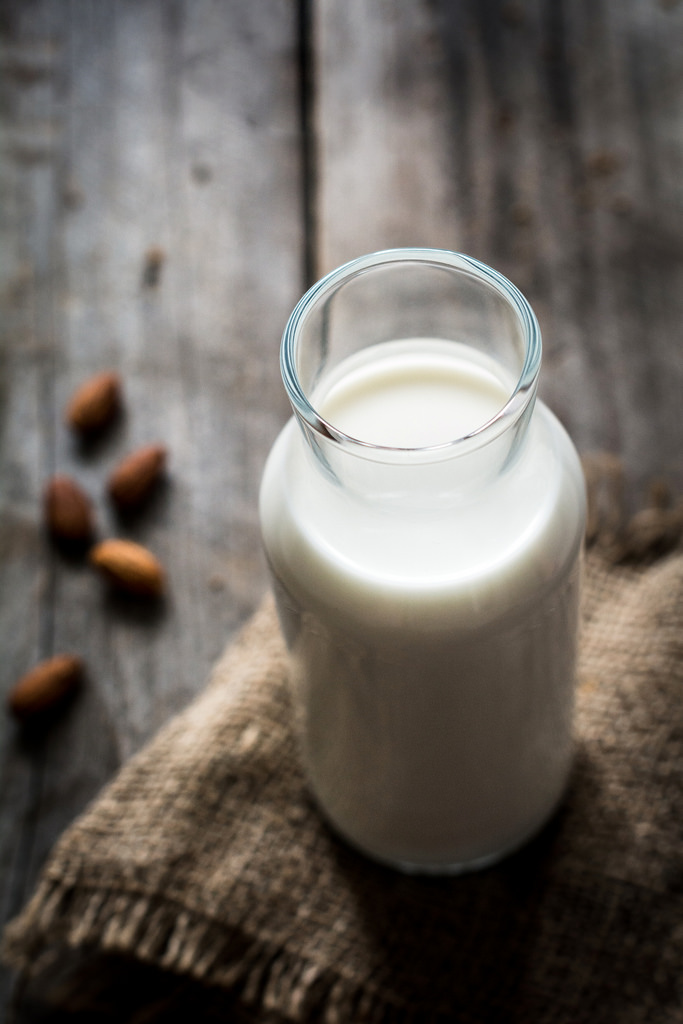glass of milk: (268, 277, 575, 882)
